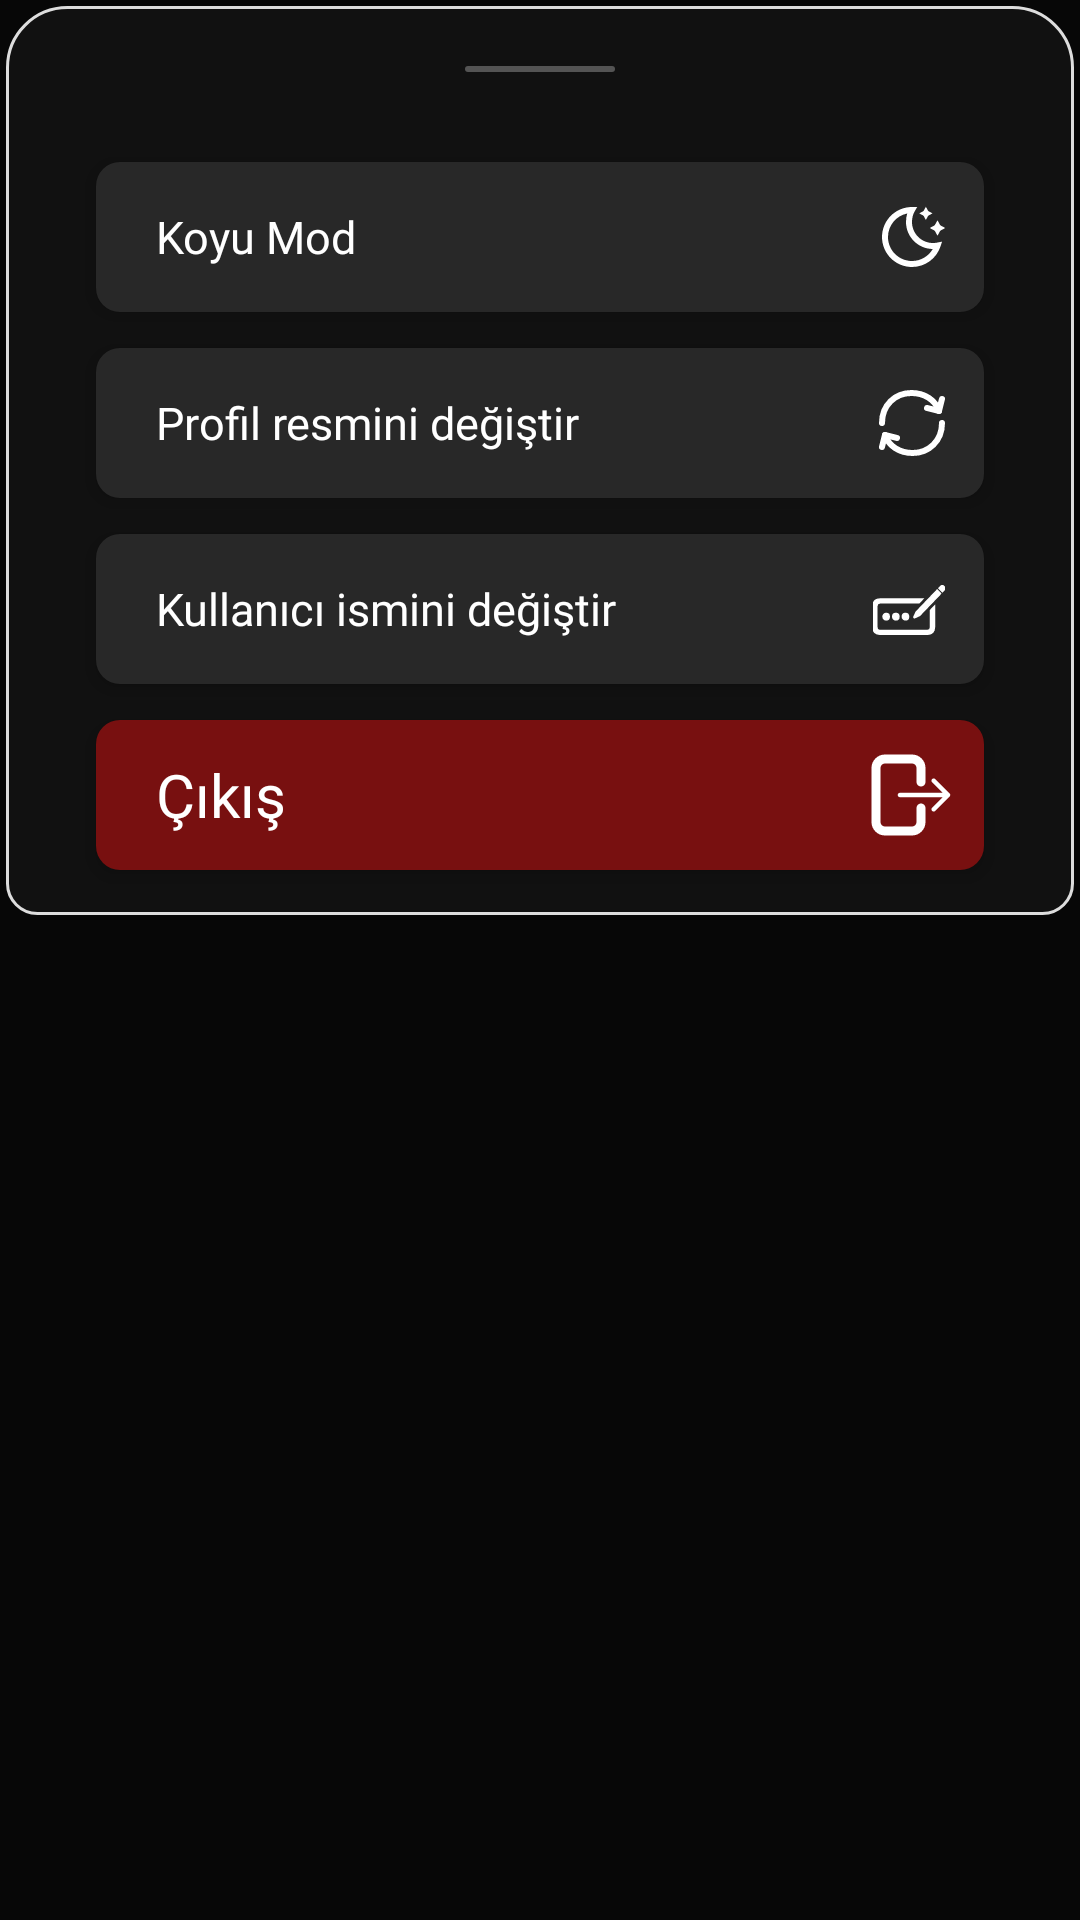

Point at icon controls on the screen. Image size 1080px x 1920px, points as (x,y).
change nickname: (909,610)
exit: (911,795)
mode: (913,237)
